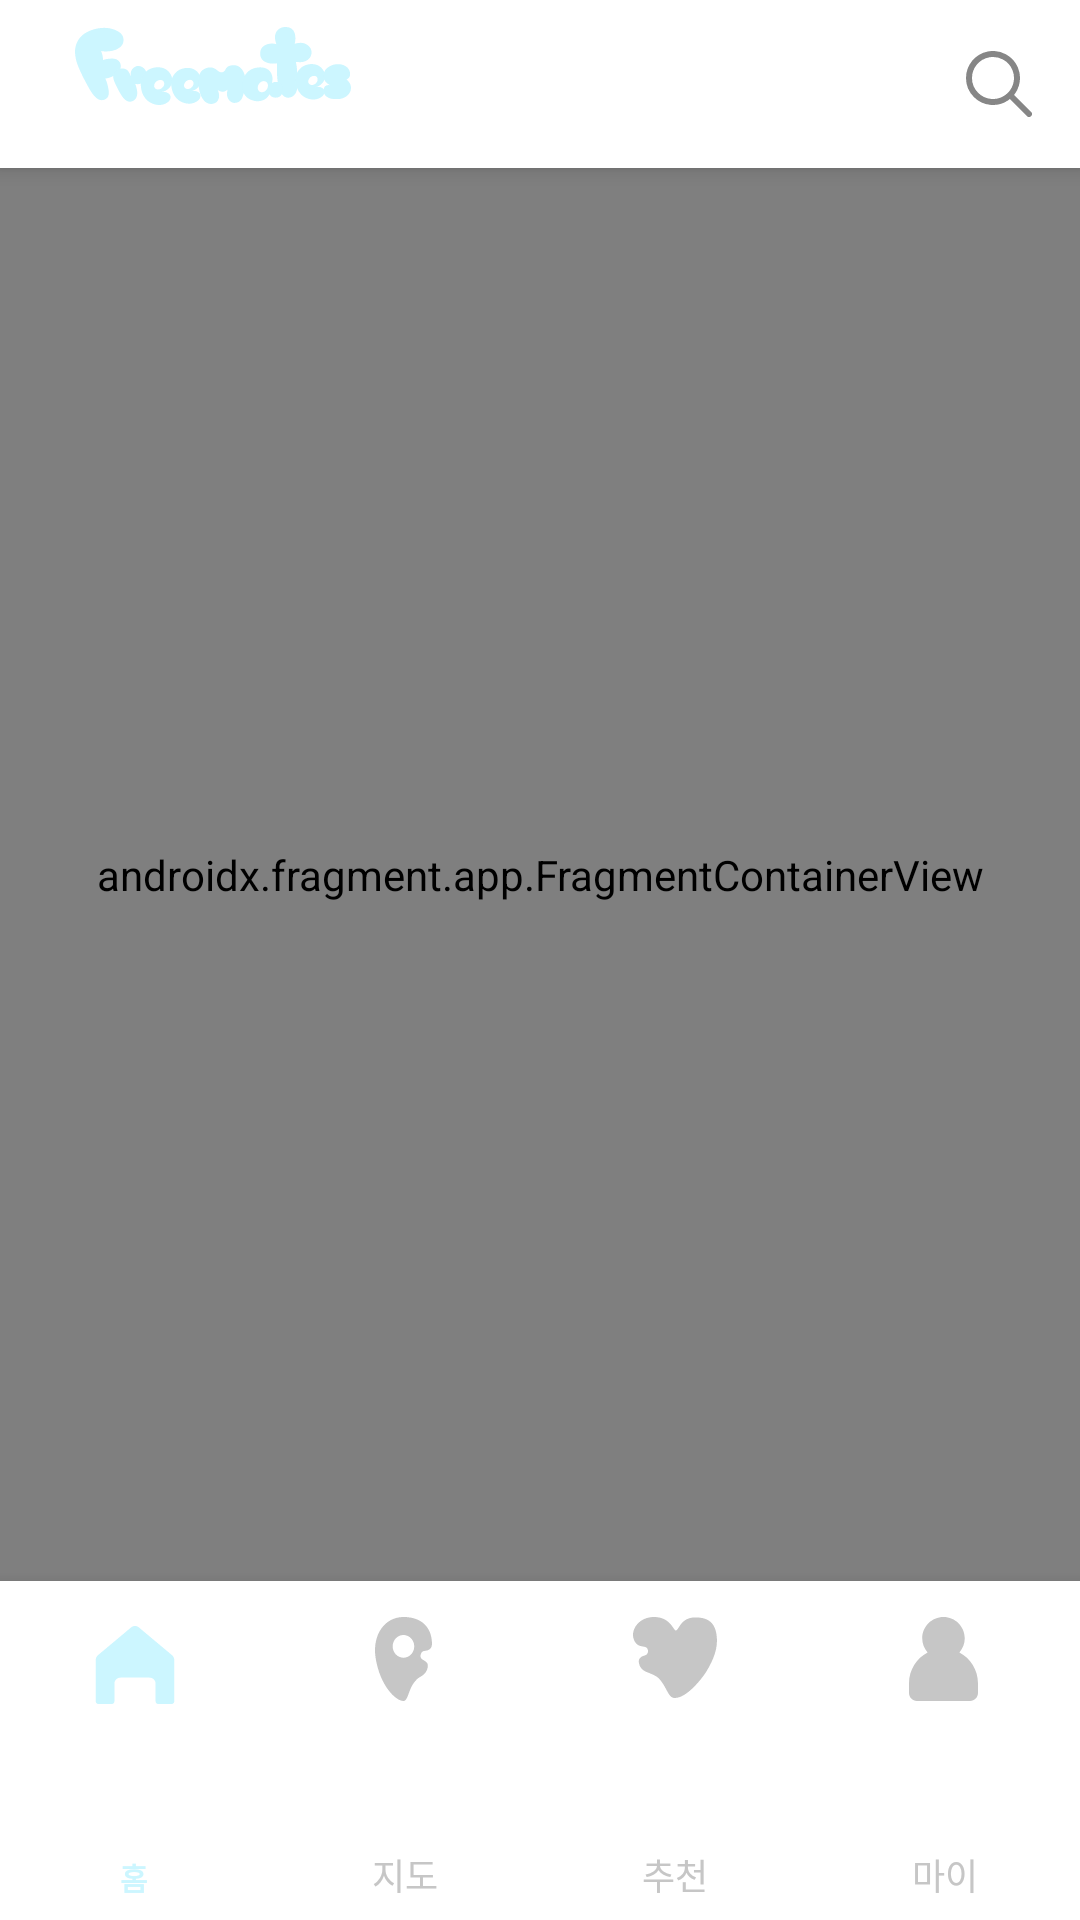

Screen size 1080w x 1920h. Icon name, then its box in pixels as [x1=x1, y1=y1, x2=x2, y2=y2]:
search: [x1=966, y1=51, x2=1032, y2=117]
